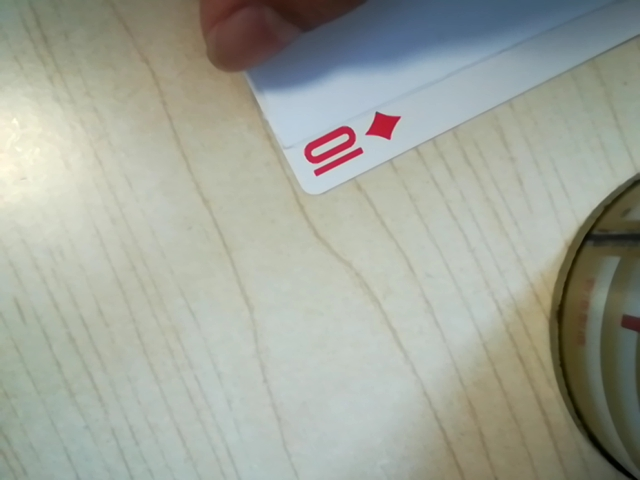fk 10: (291, 105, 398, 181)
